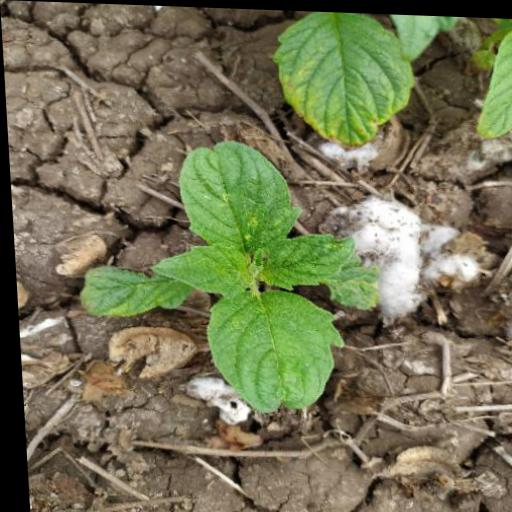crop: (78, 135, 376, 440)
